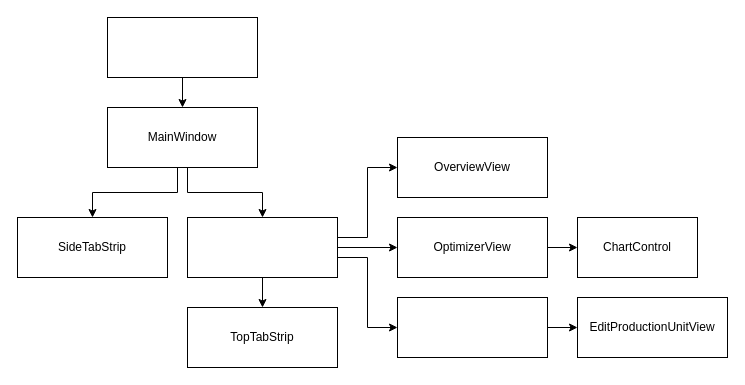
Some shapes in this 745 by 385 pixel diagram are drawn without their labels. The shapes that lost their labels are listed below. From the top down, each one's box as (x1, y1, x2, y2) in pixels, then its label:
(106, 16, 258, 78): App
(186, 216, 338, 278): ScenarioNav
(396, 296, 548, 358): ProductionUnitsView
